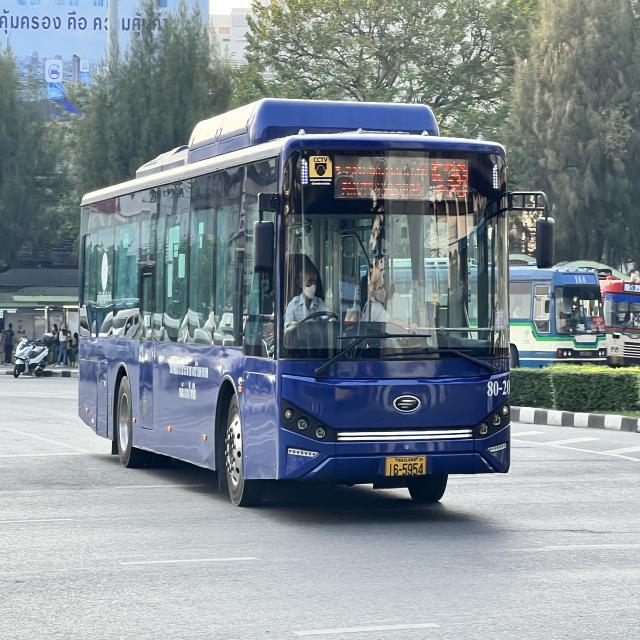Bus-Line-Number: (426, 154, 471, 206)
Destination-Sign-Normal: (331, 152, 426, 210)
TSB-Bus: (76, 100, 515, 508)
